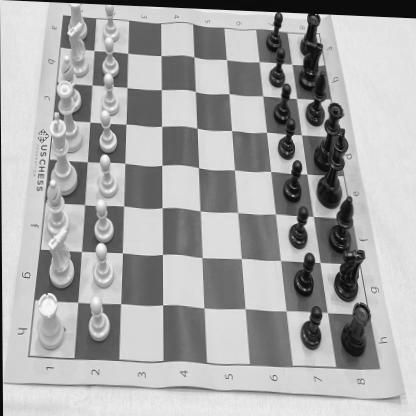black-bishop: (326, 191, 354, 250), (306, 66, 326, 122)
black-king: (317, 124, 350, 204)
black-knight: (333, 244, 366, 300), (300, 33, 324, 88)
black-pawn: (292, 249, 316, 295), (300, 298, 322, 348), (288, 203, 308, 247), (282, 156, 302, 199), (277, 115, 296, 159), (266, 9, 284, 51), (268, 44, 286, 86), (274, 80, 292, 122)
black-queen: (314, 97, 343, 167)
black-rook: (340, 298, 372, 355), (300, 11, 322, 57)
white-bishop: (44, 178, 69, 236), (61, 53, 82, 112)
white-king: (48, 111, 77, 196)
white-knight: (45, 226, 74, 290), (66, 22, 90, 78)
white-pawn: (86, 295, 111, 342), (92, 242, 114, 288), (93, 197, 114, 243), (99, 152, 119, 196), (97, 108, 116, 151), (100, 72, 118, 115), (102, 3, 120, 42), (102, 36, 119, 76)
white-queen: (55, 80, 82, 154)
white-rook: (35, 290, 65, 350), (68, 2, 89, 41)
